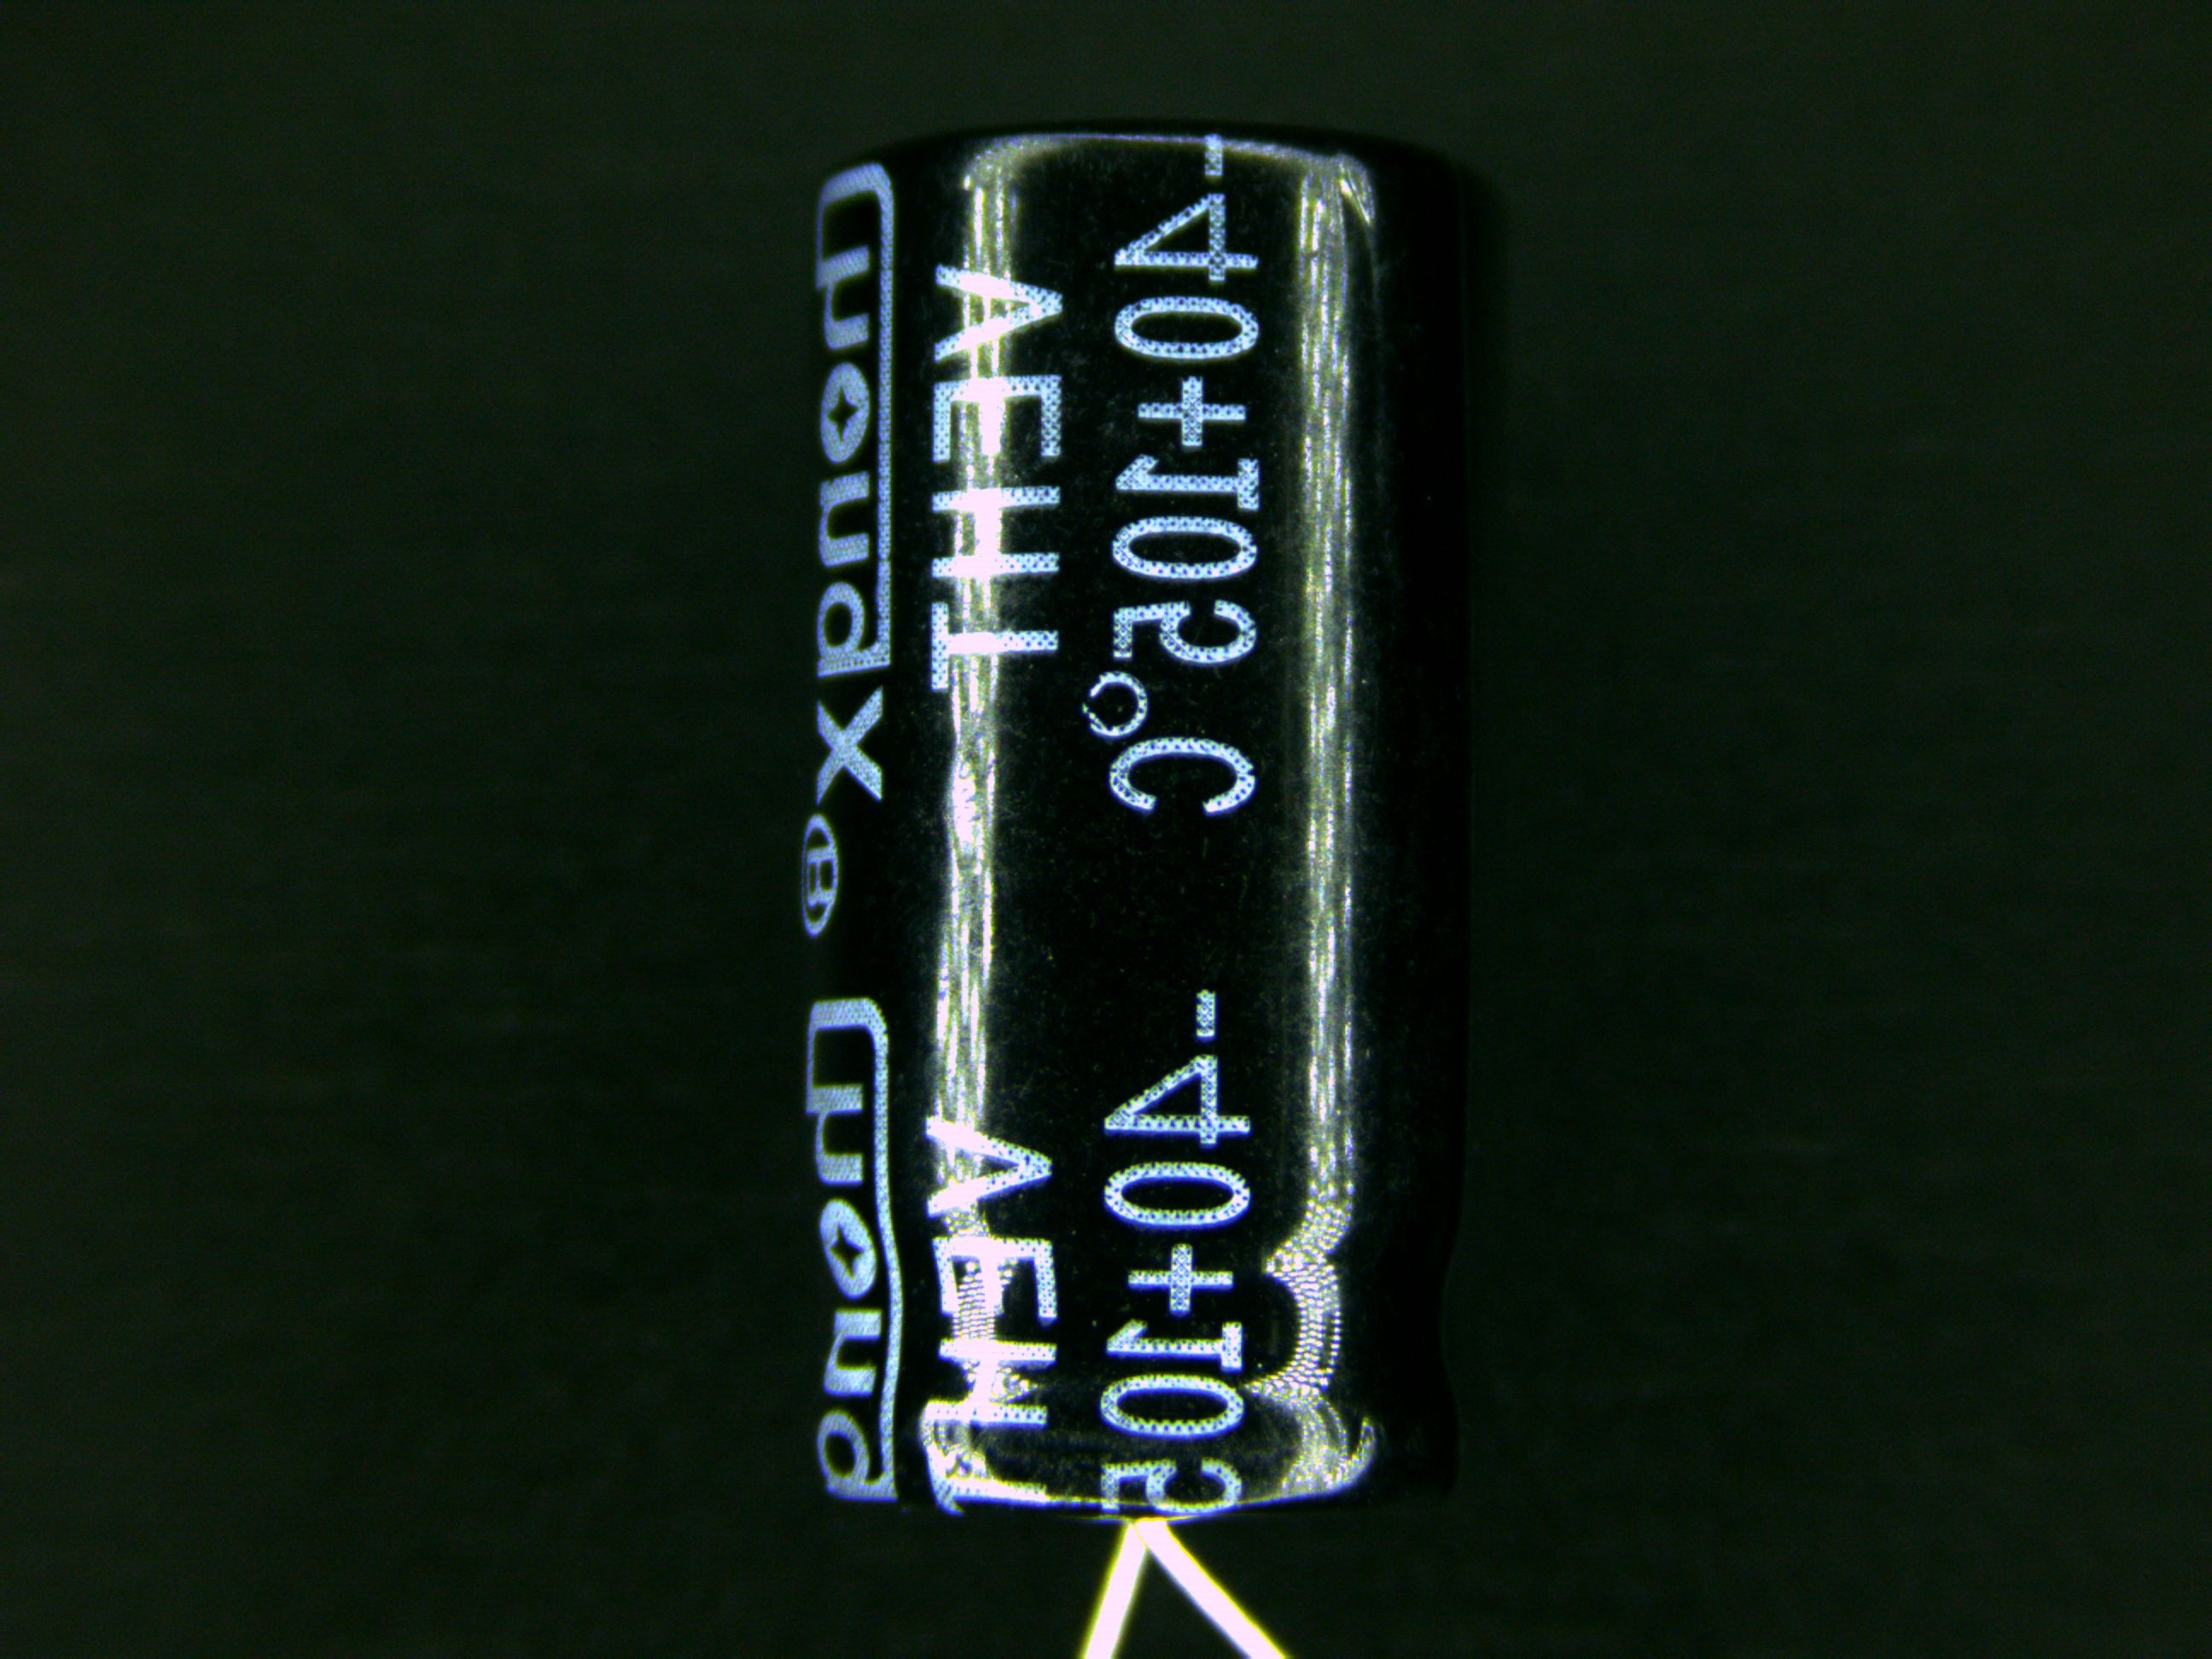c3: (779, 117, 1500, 1596)
